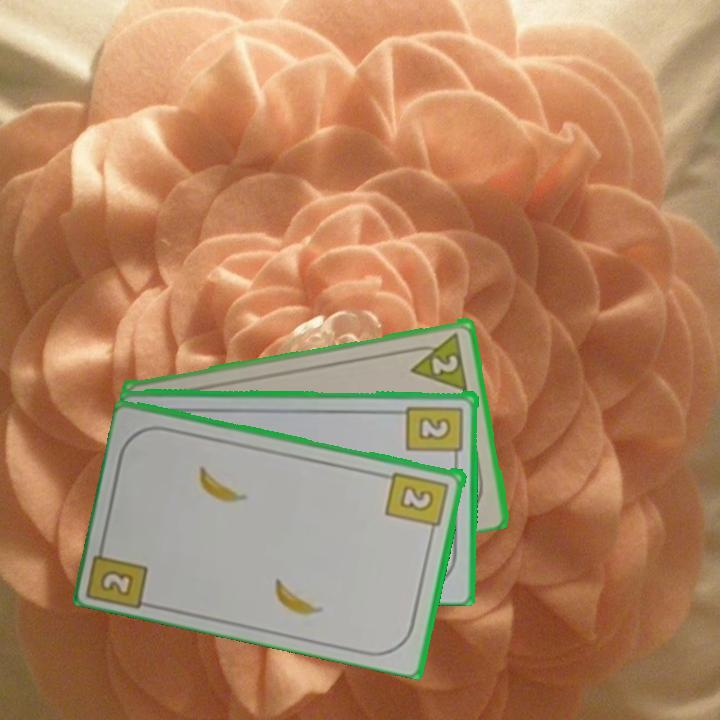2b: (383, 467, 452, 538), (404, 402, 466, 464), (97, 566, 137, 599)
2p: (404, 328, 471, 393)
